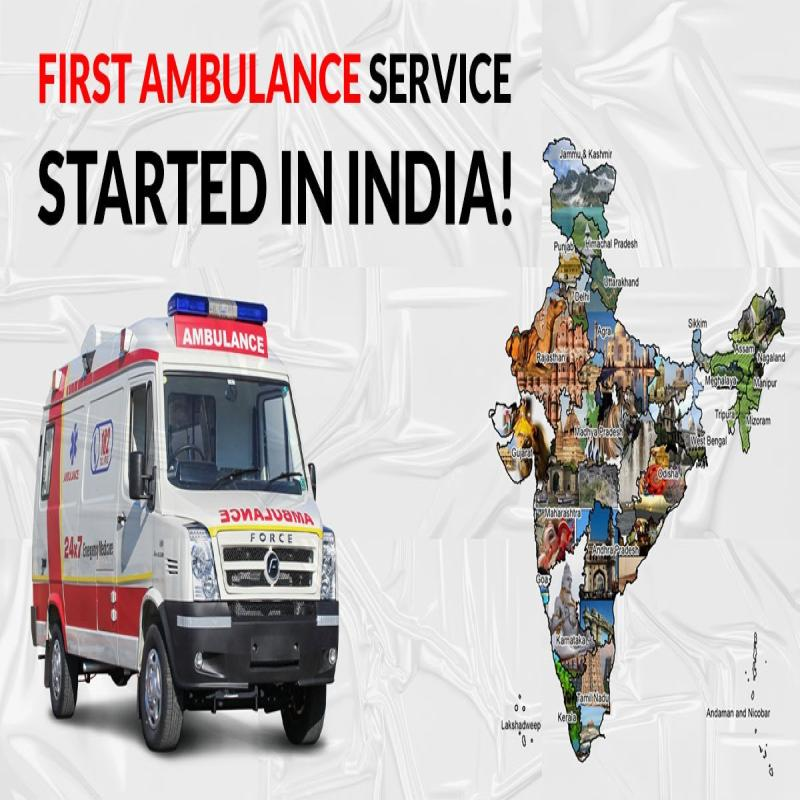AmbulanceSiren: (162, 282, 279, 344)
ambulance: (11, 282, 339, 752)
